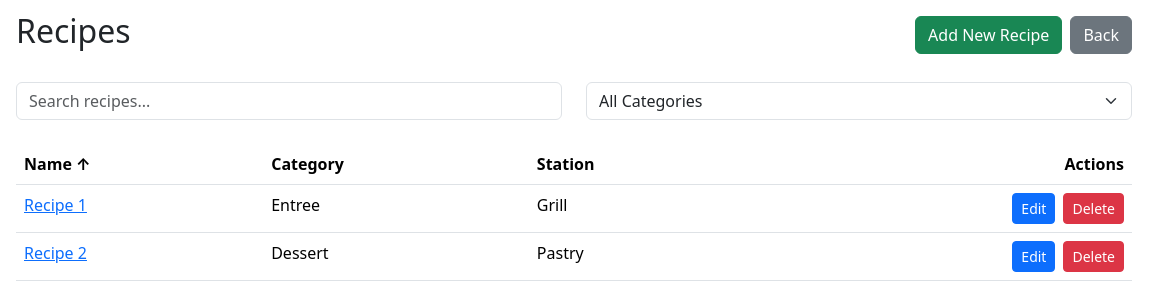
RecipesTable › filters recipes by category
This screenshot has width=1149, height=298.
Check: the link "Recipe 1" is shown, box [24, 194, 87, 216]
Select "Entree" in the dropdown at {"x": 859, "y": 101}, box [586, 82, 1132, 120]
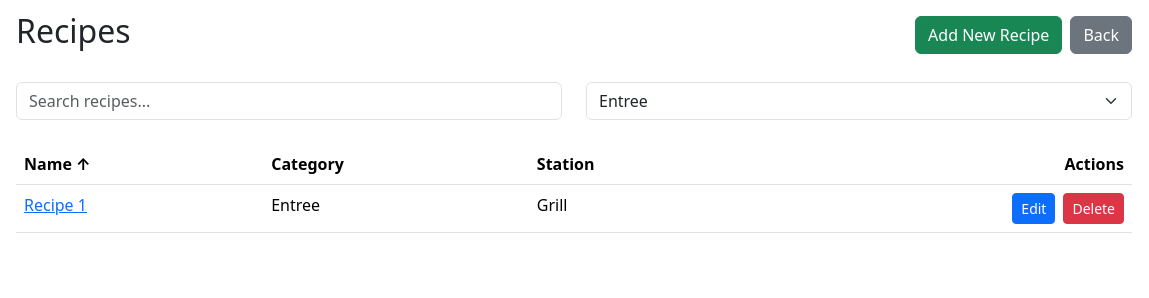
Check: the link "Recipe 1" is shown, box [24, 194, 87, 216]
Check: the link "Recipe 2" is gone
